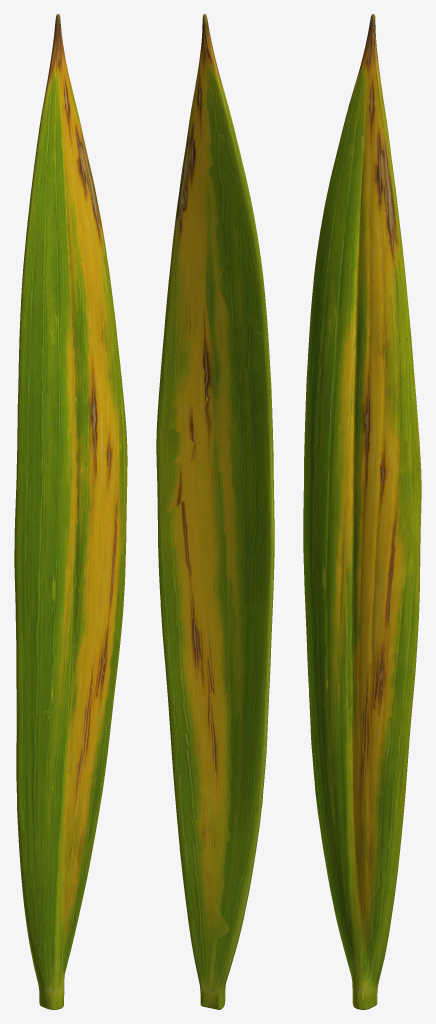
Rendered from rice_tungro.glb.
3 renders of one model, left to right at view 1: azimuth 30°, elevation 25°; view 2: azimuth 150°, elevation 25°; view 3: azimuth 330°, elevation 25°, orthographic.
Parts seen in each view (by area): view 1: rice_tungro; view 2: rice_tungro; view 3: rice_tungro.
Part boxes in pixels (x1=…): rice_tungro: x1=14, y1=14, x2=127, y2=1009; rice_tungro: x1=156, y1=14, x2=274, y2=1009; rice_tungro: x1=303, y1=14, x2=421, y2=1009.
Bounding box in the file's own units: 0.1215 × 1 × 0.0469.
Materials: 1 (1 with a texture image).
